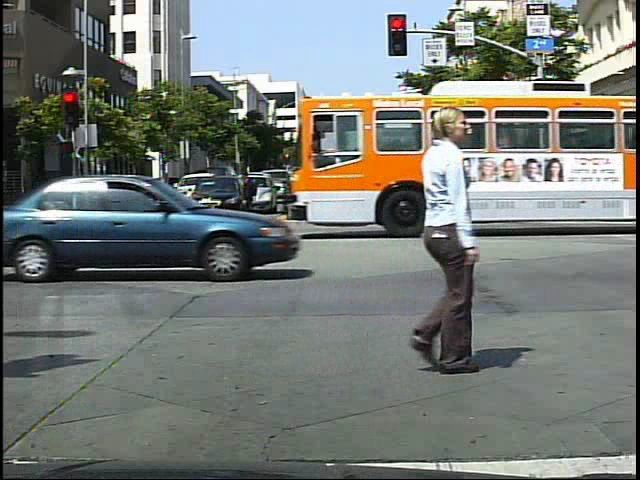person: (369, 84, 503, 384), (327, 164, 359, 228), (240, 166, 266, 217), (550, 160, 573, 211), (316, 166, 318, 230)
